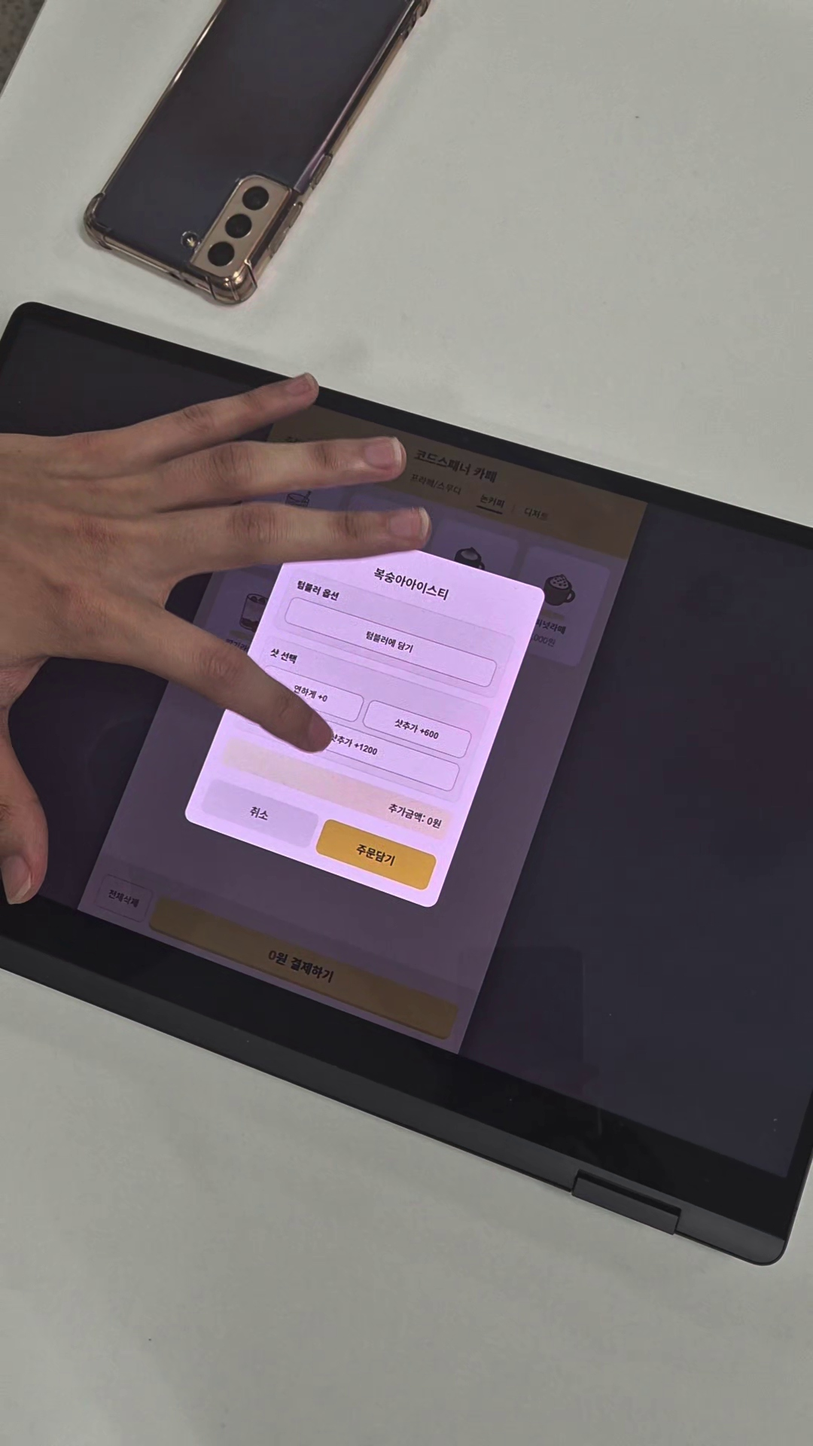action_button: (315, 817, 439, 892), (197, 779, 321, 852)
menu_name: (365, 561, 455, 605)
option_button: (281, 595, 500, 690), (361, 697, 474, 761), (254, 662, 366, 725)
popup_modal: (171, 510, 552, 924)
